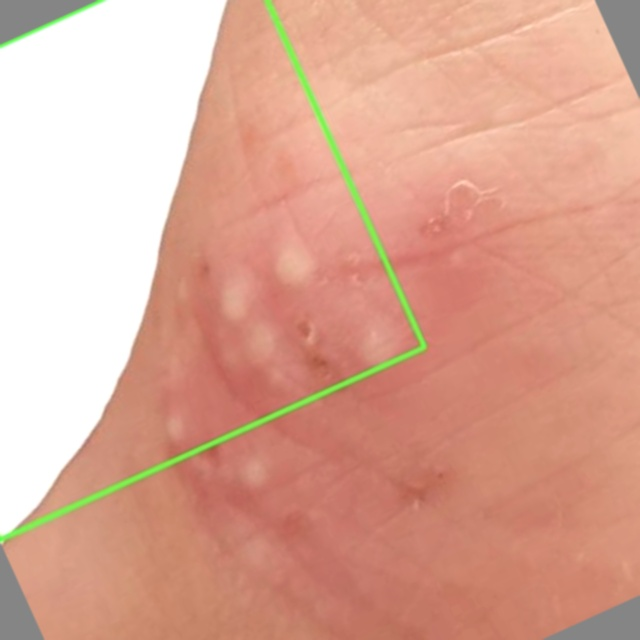Scabies: (0, 0, 424, 539)
